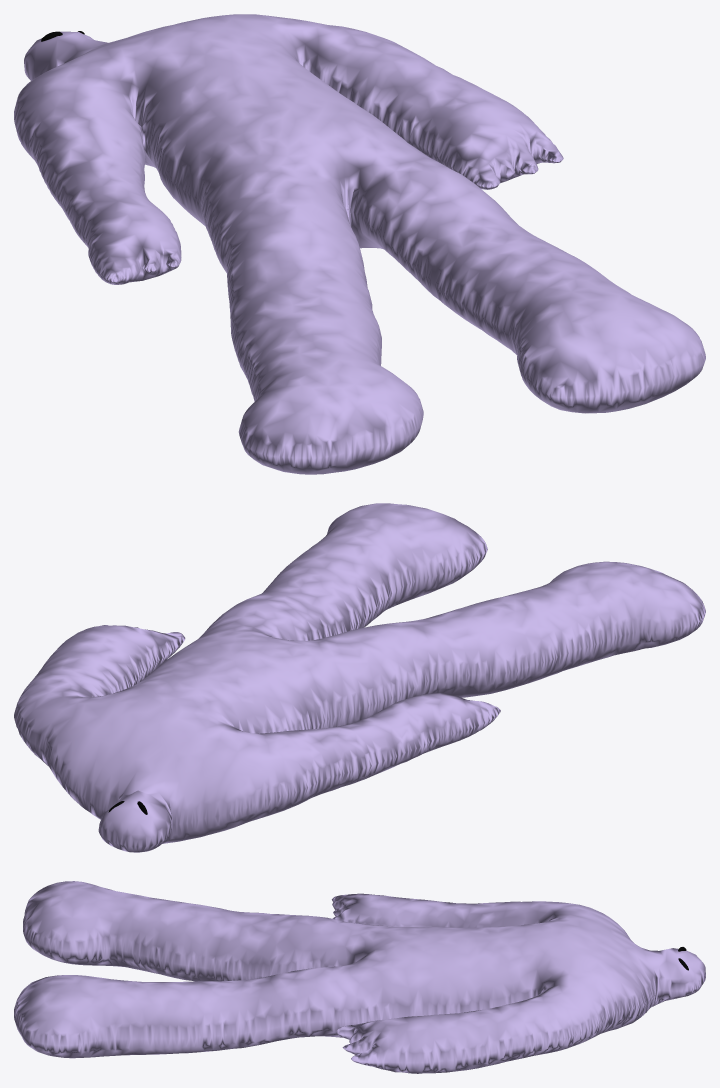
File: person.glb
The picture shows the model from 3 angles, top to bottom: view 1: azimuth 30°, elevation 25°; view 2: azimuth 150°, elevation 25°; view 3: azimuth 270°, elevation 25°; orthographic projection. The views are drawn at different scales.
Parts seen in each view (by area): view 1: Icosphere.001; view 2: Icosphere.001; view 3: Icosphere.001.
Part boxes in pixels (bbox=[...]): Icosphere.001: bbox=[14, 14, 705, 474]; Icosphere.001: bbox=[14, 503, 705, 852]; Icosphere.001: bbox=[14, 881, 705, 1073].
Bounding box in the file's own units: 4.77 × 1.2 × 7.68.
